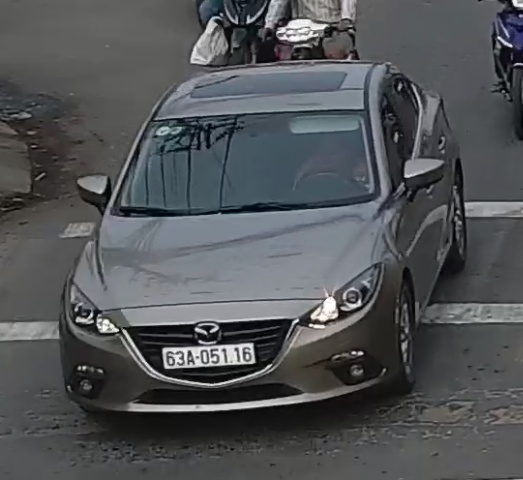vehicle plate: (160, 343, 259, 369)
